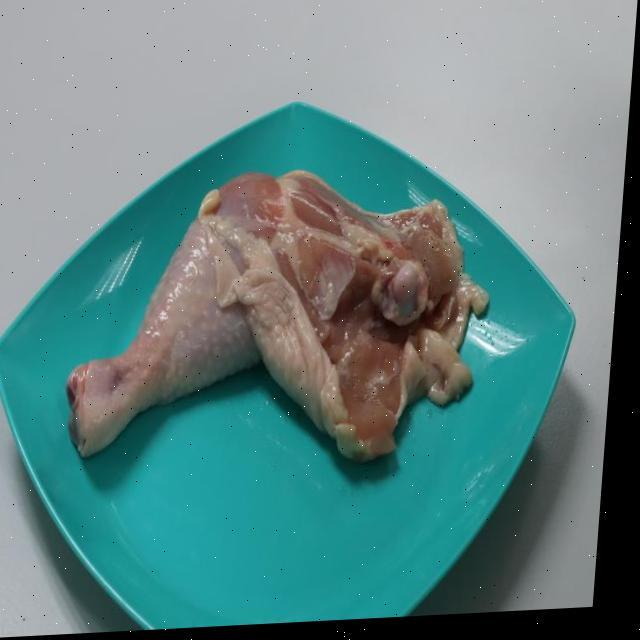quater: (60, 176, 489, 472)
